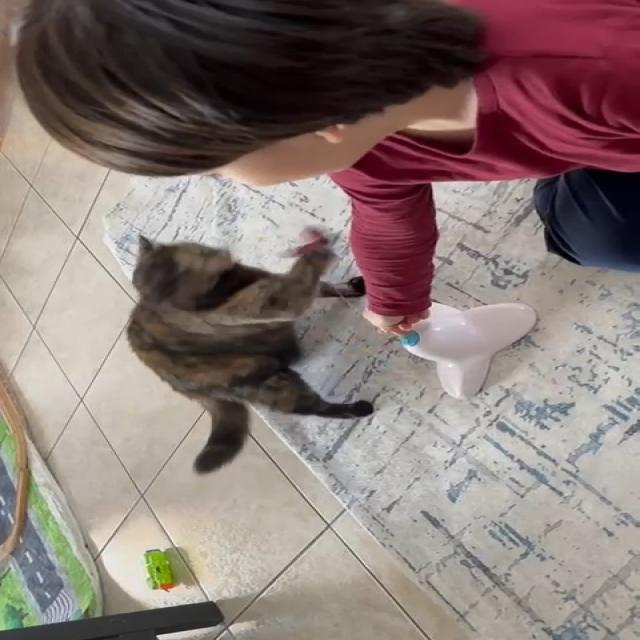authorized: (124, 232, 375, 475)
